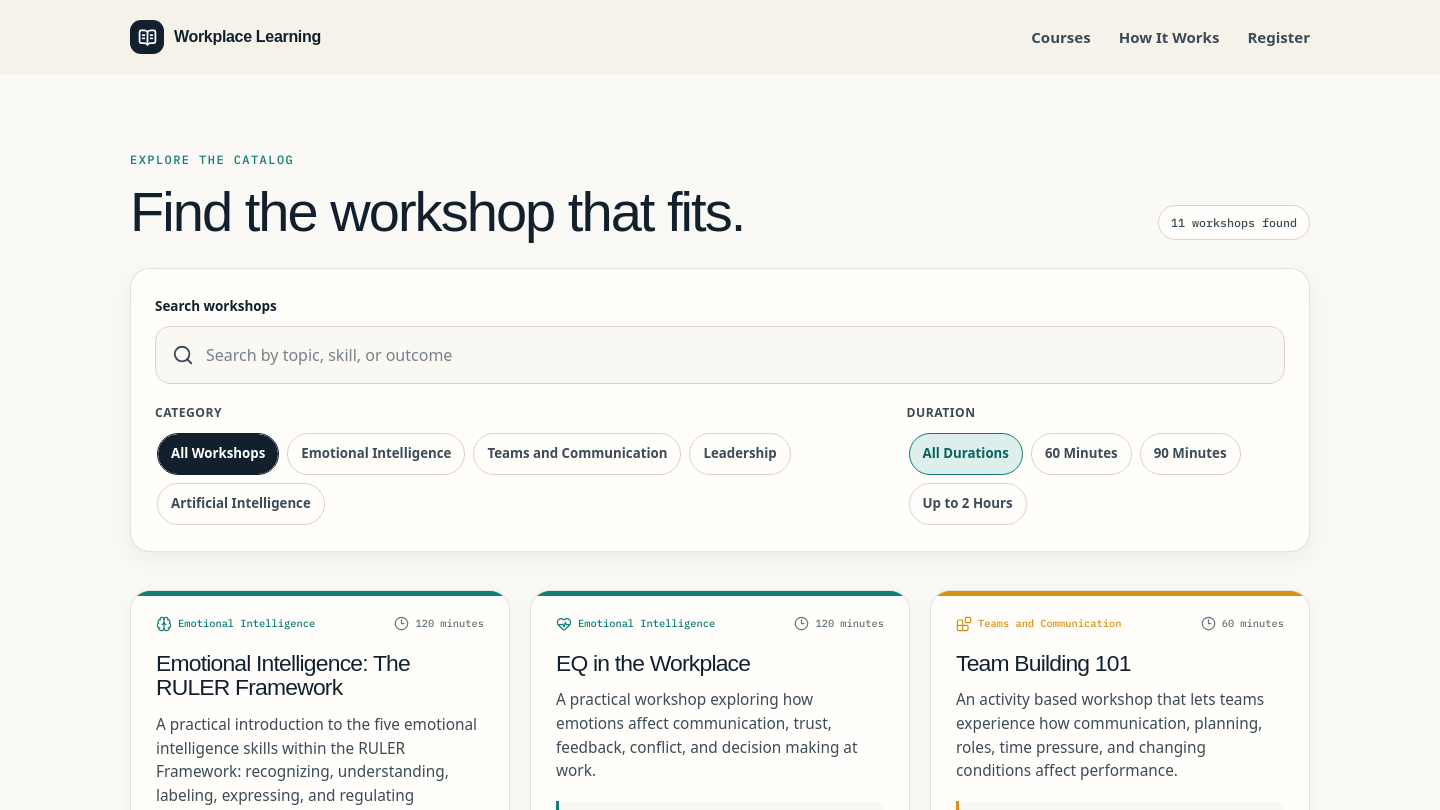
Test case: workshop explorer › filters by duration
(page scrolled)
Click the button "60 Minutes" at [1081, 454], box [1031,433,1132,475]
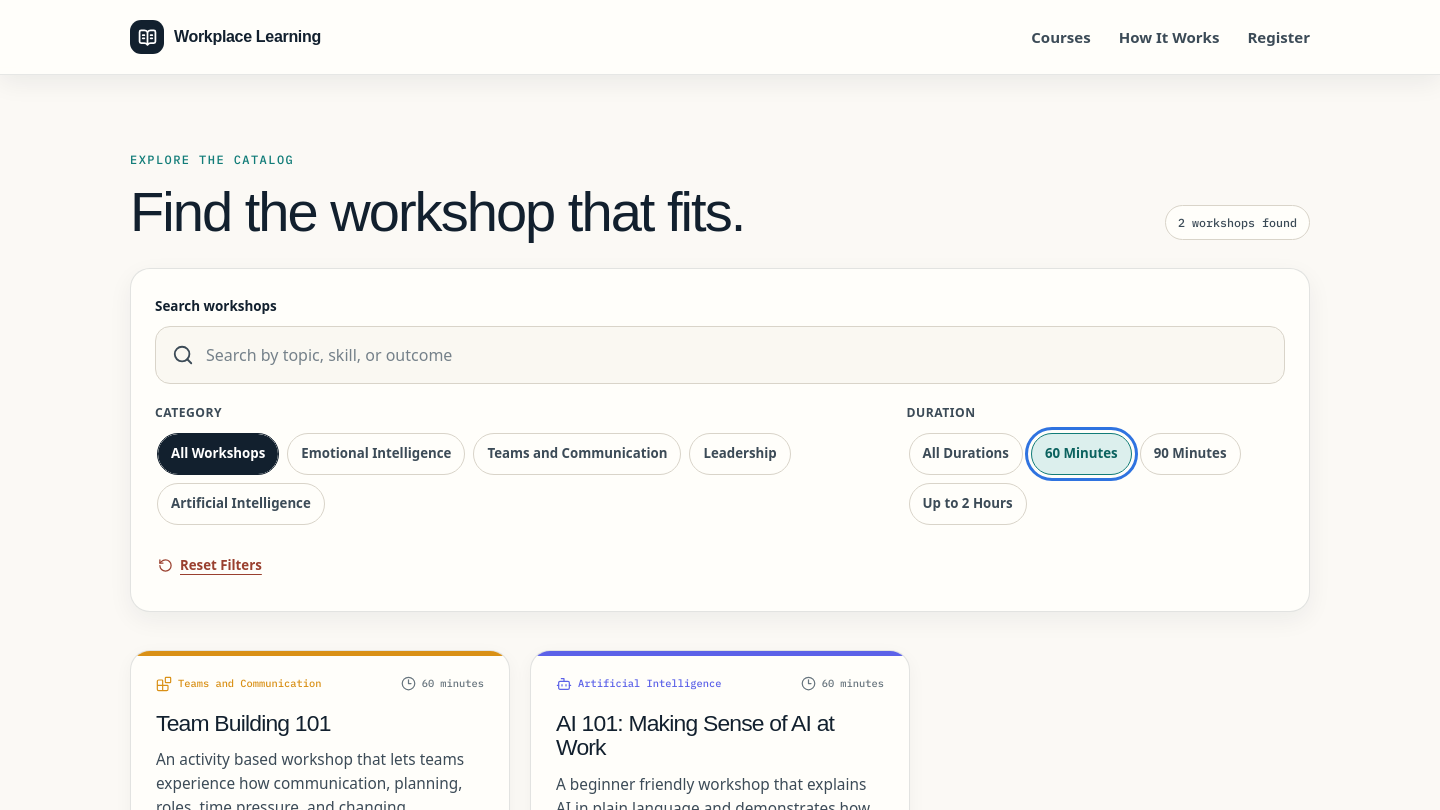
Expected: the heading "AI 101: Making Sense of AI at Work" is shown, [556,710,834,760]
Expected: the message reads "2 workshops found", [1178,215,1297,230]
